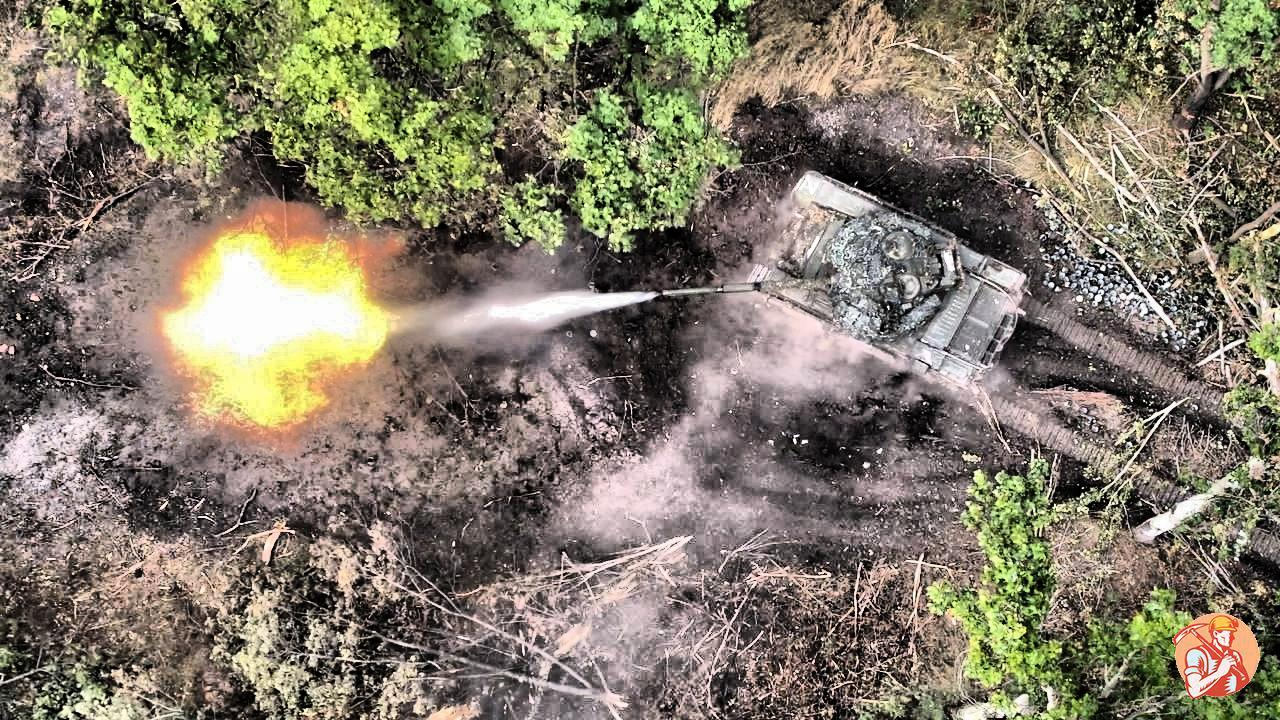military-vehicle: (660, 164, 1029, 394)
